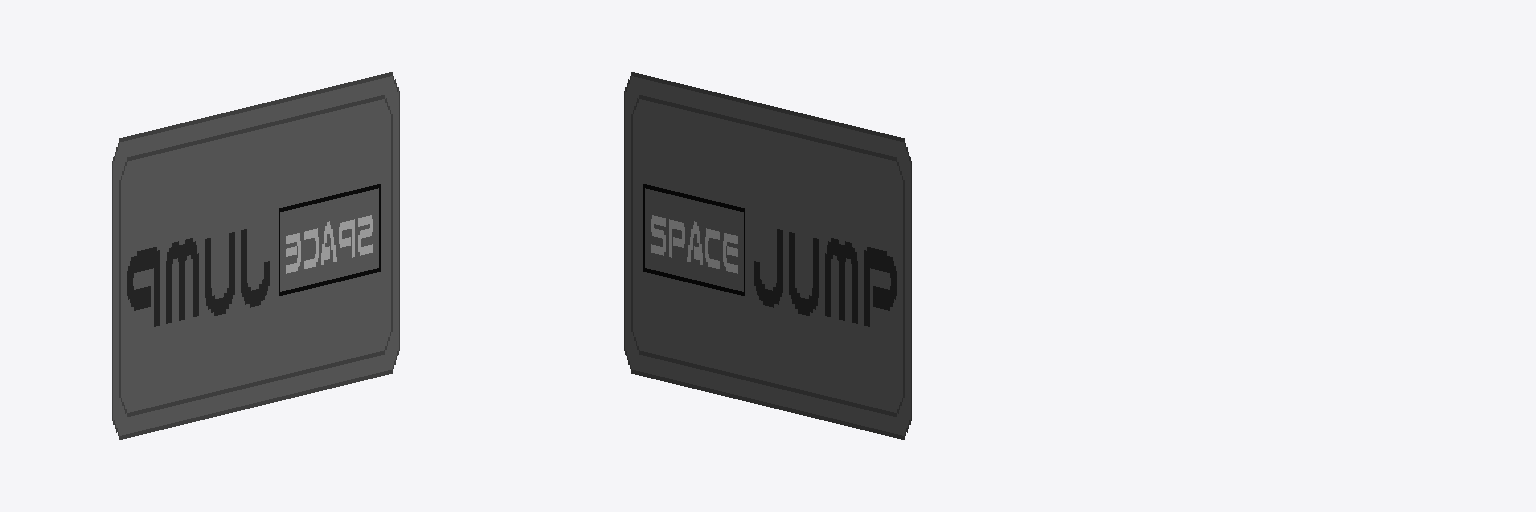
3 renders of one model, left to right at view 1: azimuth 30°, elevation 25°; view 2: azimuth 150°, elevation 25°; view 3: azimuth 270°, elevation 25°, orthographic.
Parts seen in each view (by area): view 1: 平面; view 2: 平面; view 3: none.
Part boxes in pixels (x1,y1,x2,y2): 平面: (112, 72, 399, 439); 平面: (624, 72, 911, 439).
Size of the model in its own units: 2 by 2 by 0.
1 materials, 1 textured.